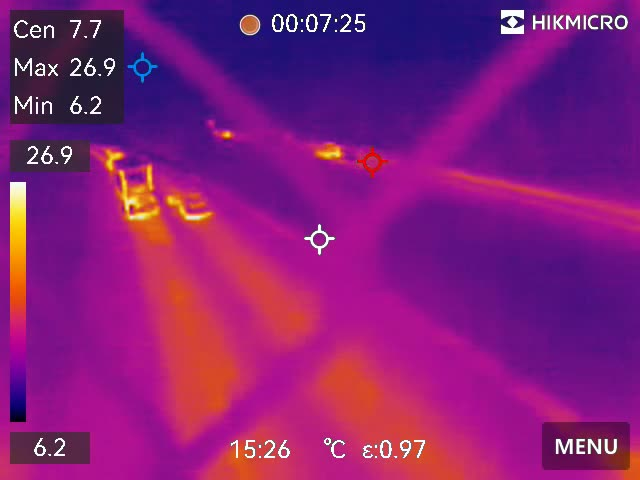heavyTruck: (106, 154, 164, 224)
